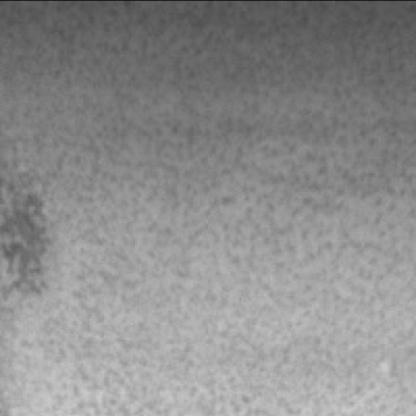pitted_surface: (0, 4, 412, 416), (0, 160, 50, 304)
